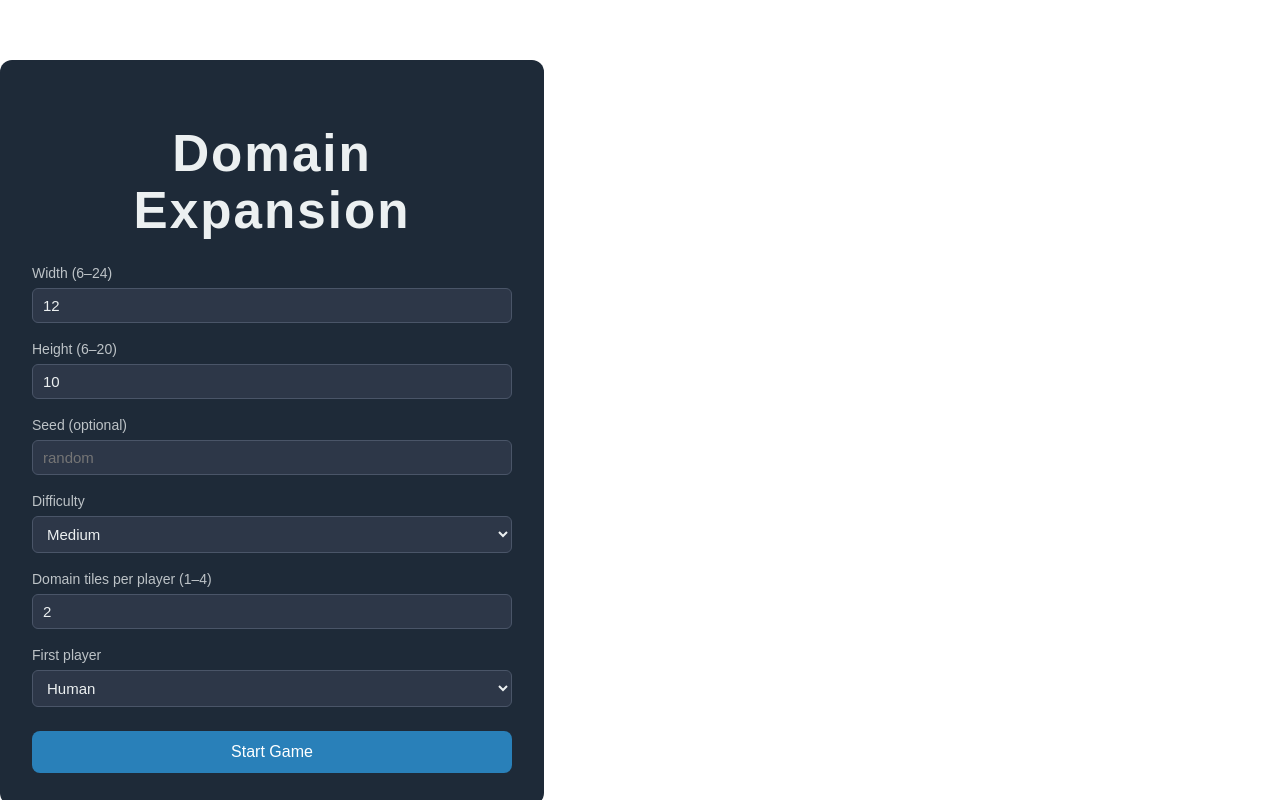
Scenario: Plains: two-step selection UI › shows "Select your second bonus tile" when phase is plains_second_pick
Click the button with test id "btn-start": coordinates (272, 752) [32,731,512,773]
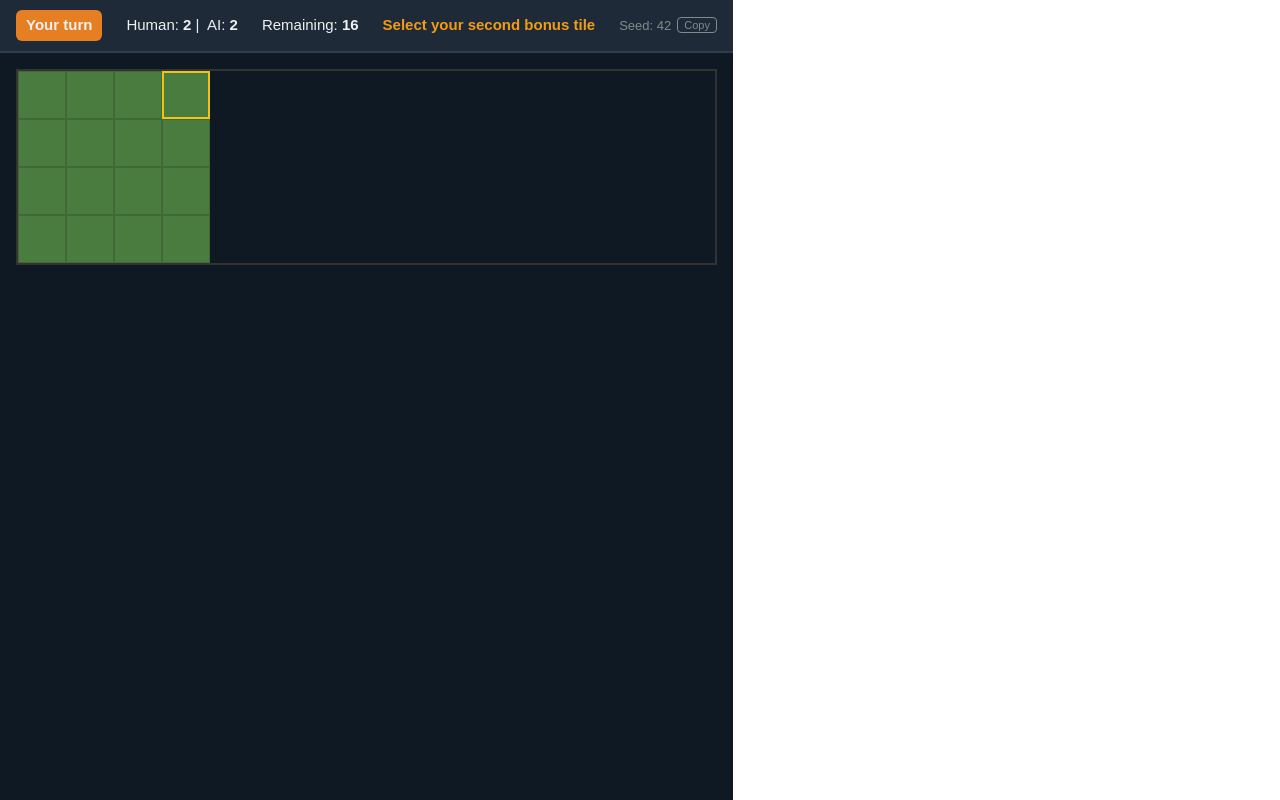
Result: the element with test id "board" is shown at [16,68,717,264]
Result: the text with test id "phase-prompt" reads "Select your second bonus tile" at [383,16,595,33]
